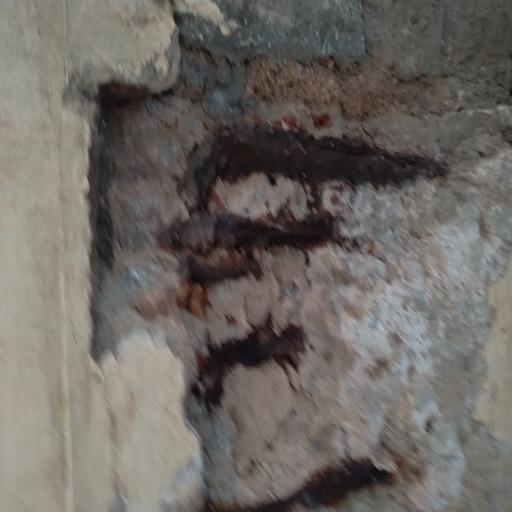spalling: (72, 0, 503, 512)
